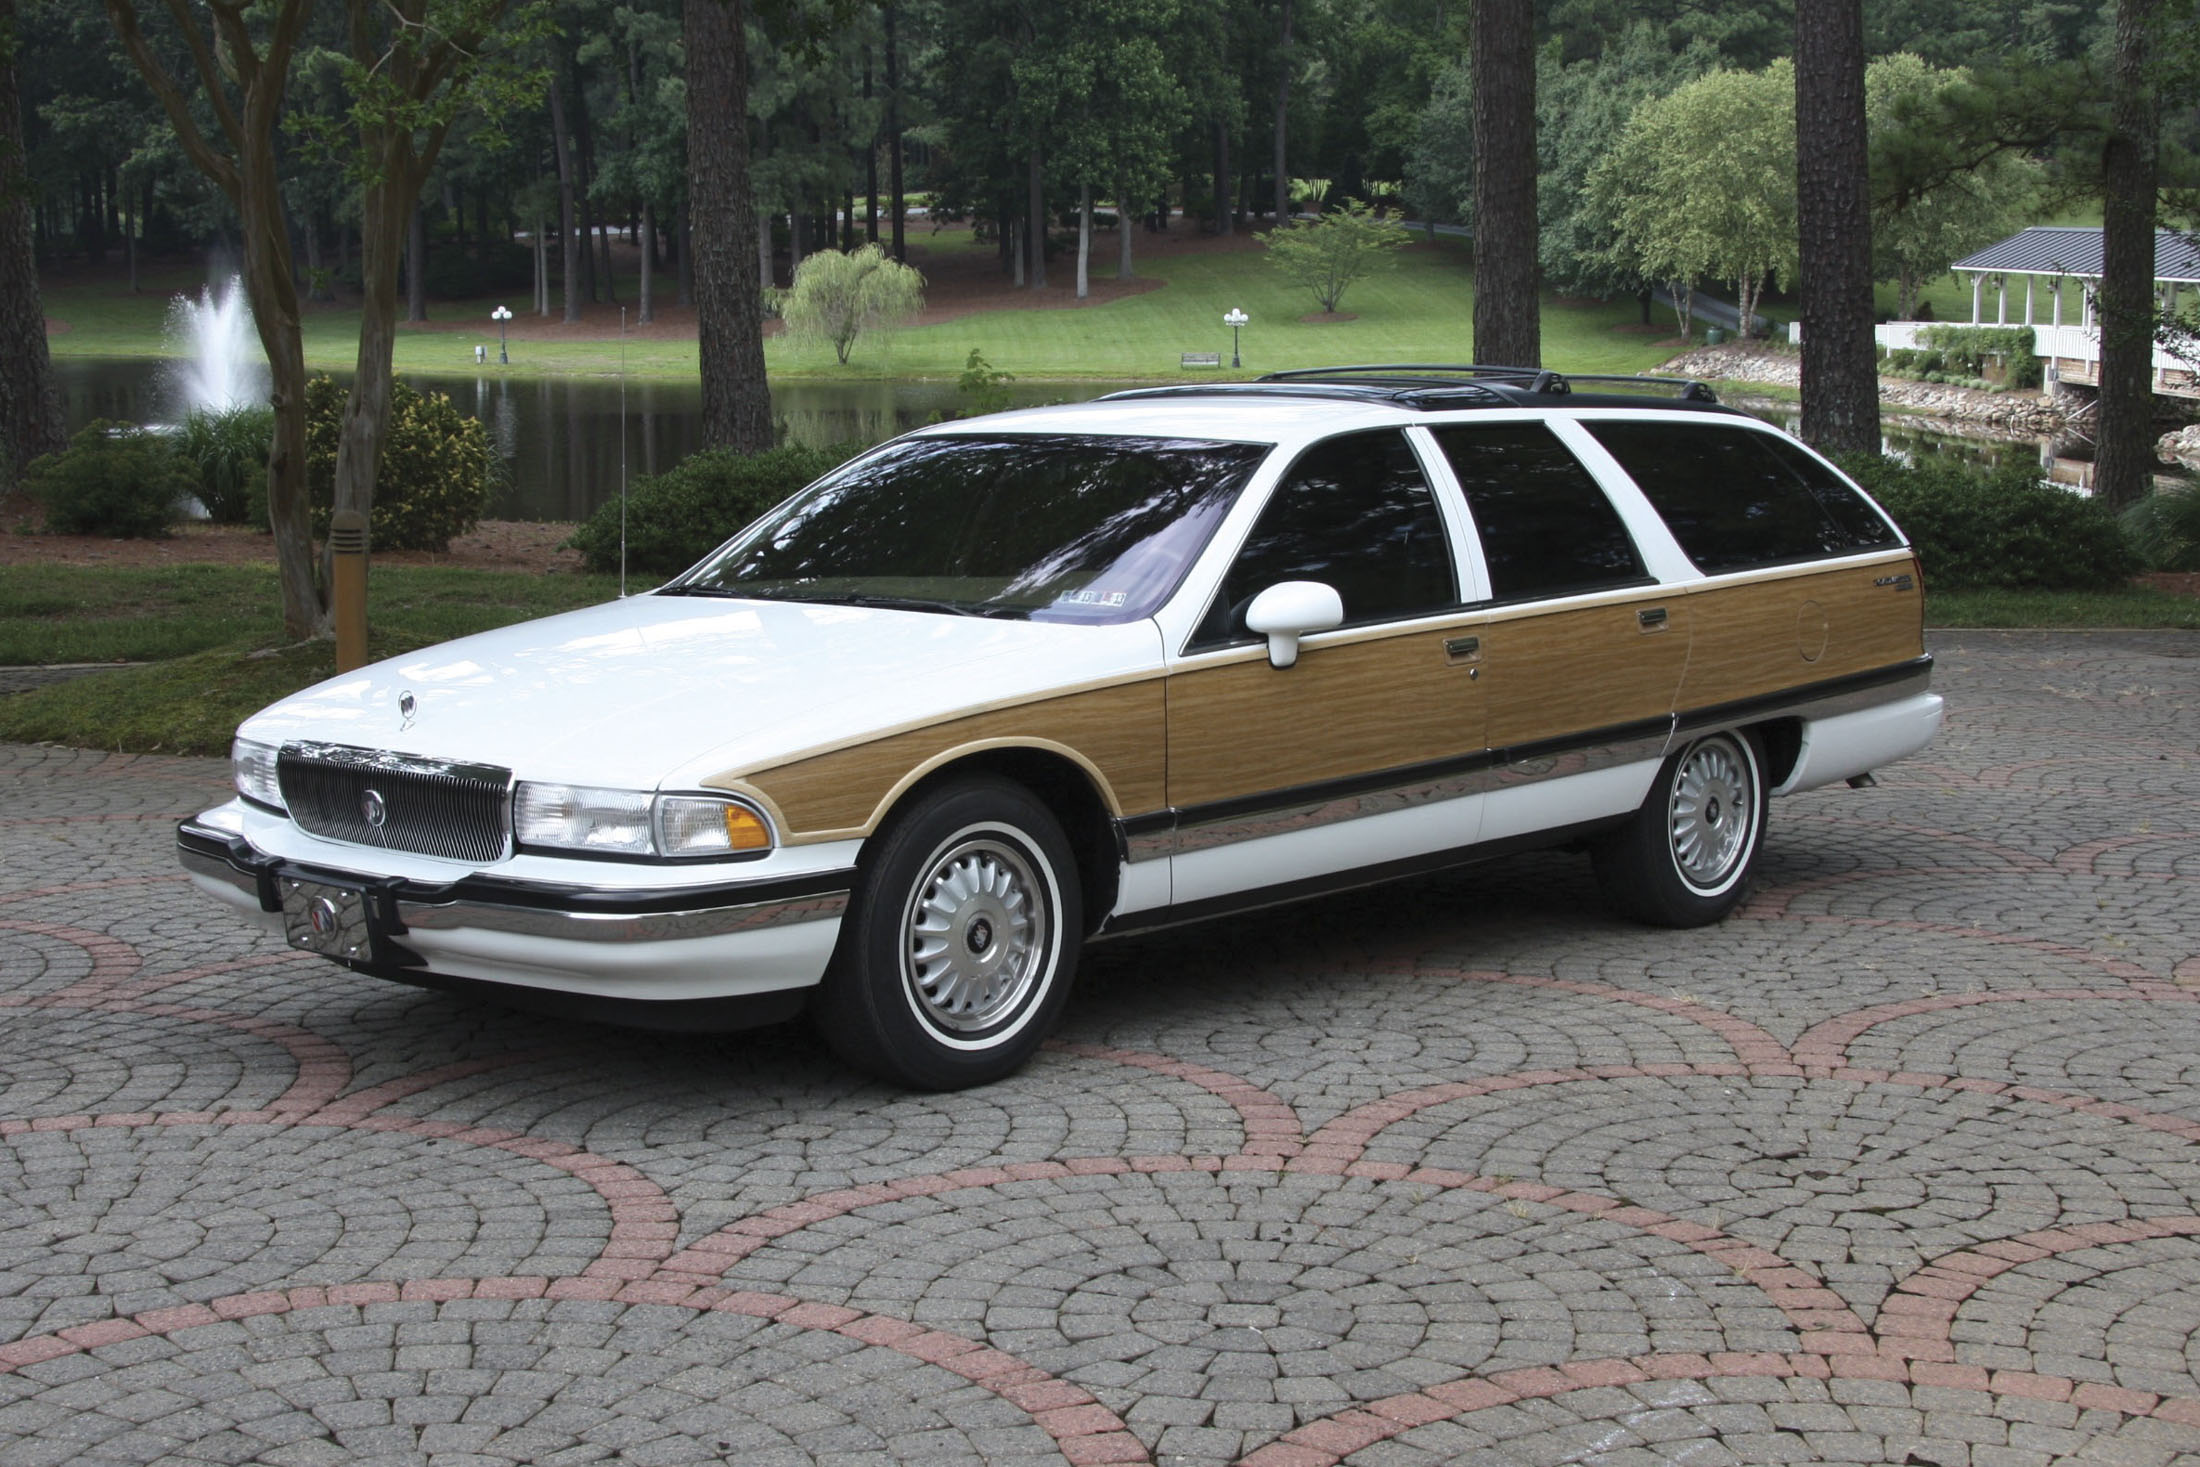car: (177, 368, 1945, 1099)
